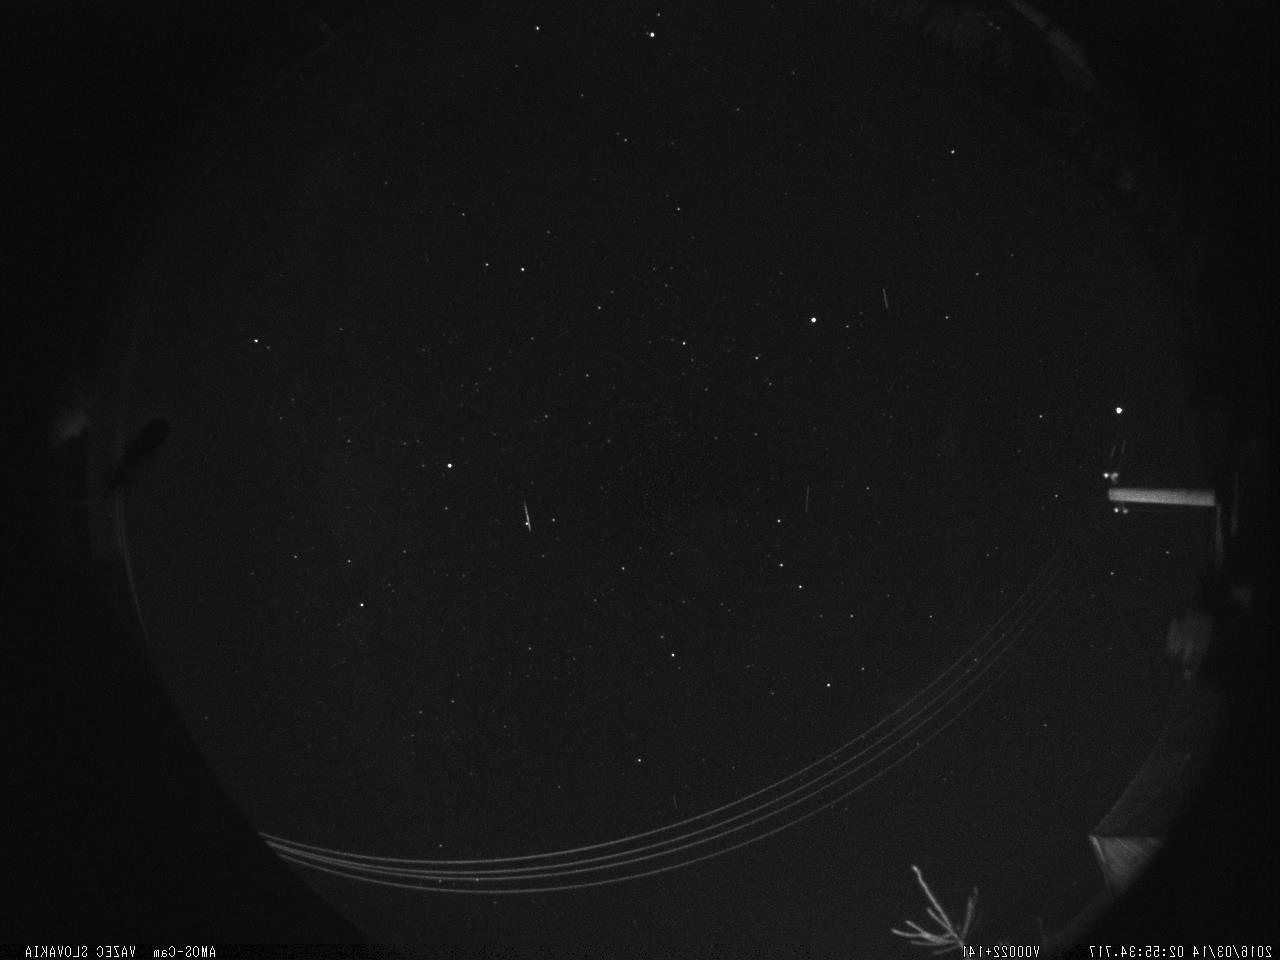meteor: (516, 496, 541, 535)
satelite: (875, 278, 893, 317)
